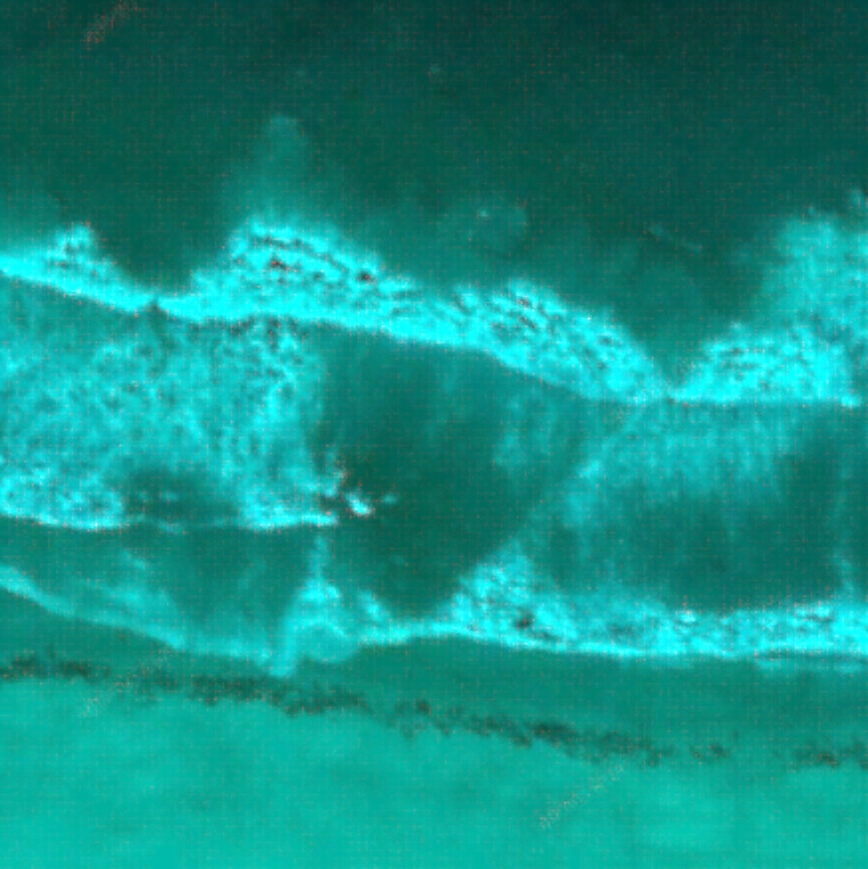rip_current: (295, 159, 574, 588)
